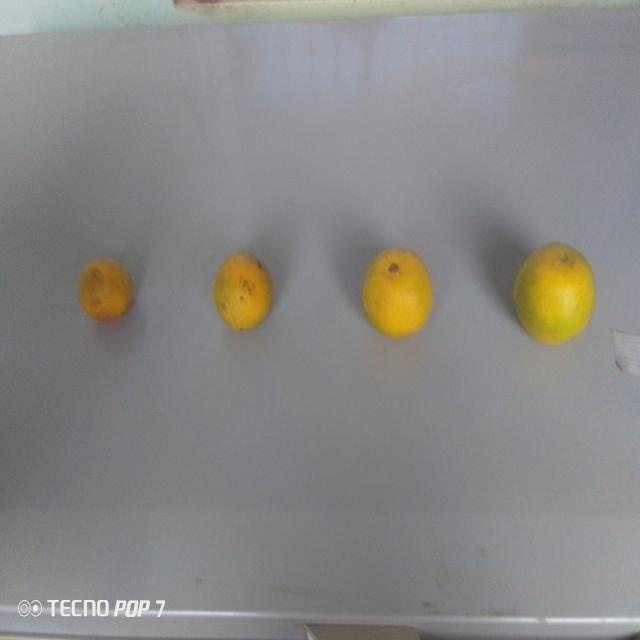agrume: (513, 235, 604, 349), (355, 242, 435, 344), (72, 252, 147, 345), (208, 246, 279, 336)
